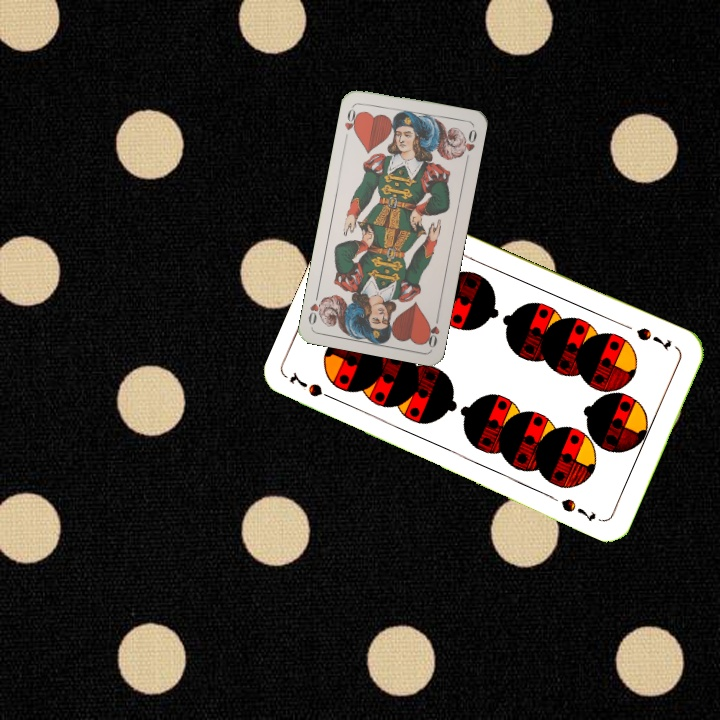HO: (340, 102, 362, 142), (421, 310, 442, 350)
S7: (285, 368, 341, 404), (632, 323, 674, 353)
